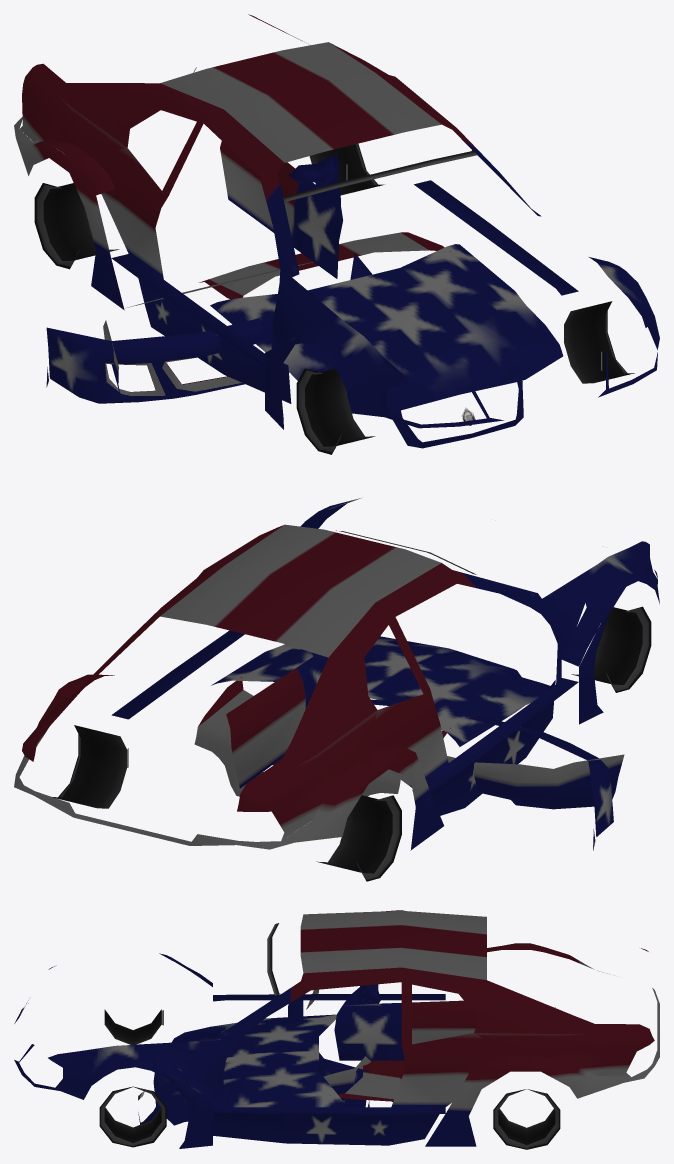
File: car-CUPE_Car8.glb
The picture shows the model from 3 angles, top to bottom: view 1: azimuth 30°, elevation 25°; view 2: azimuth 150°, elevation 25°; view 3: azimuth 270°, elevation 25°; orthographic projection. The views are drawn at different scales.
Visible parts, largest first — view 1: CUPE_Car8; view 2: CUPE_Car8; view 3: CUPE_Car8.
Boxes of the visible parts, x1,y1,x2,y2 form: CUPE_Car8: (14,14,659,454); CUPE_Car8: (14,498,659,881); CUPE_Car8: (14,910,659,1149).
Size of the model in its own units: 2.75 by 1.35 by 4.58.
Materials: 19 (19 with a texture image).
